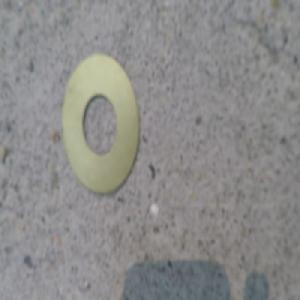Washer: (61, 54, 141, 198)
